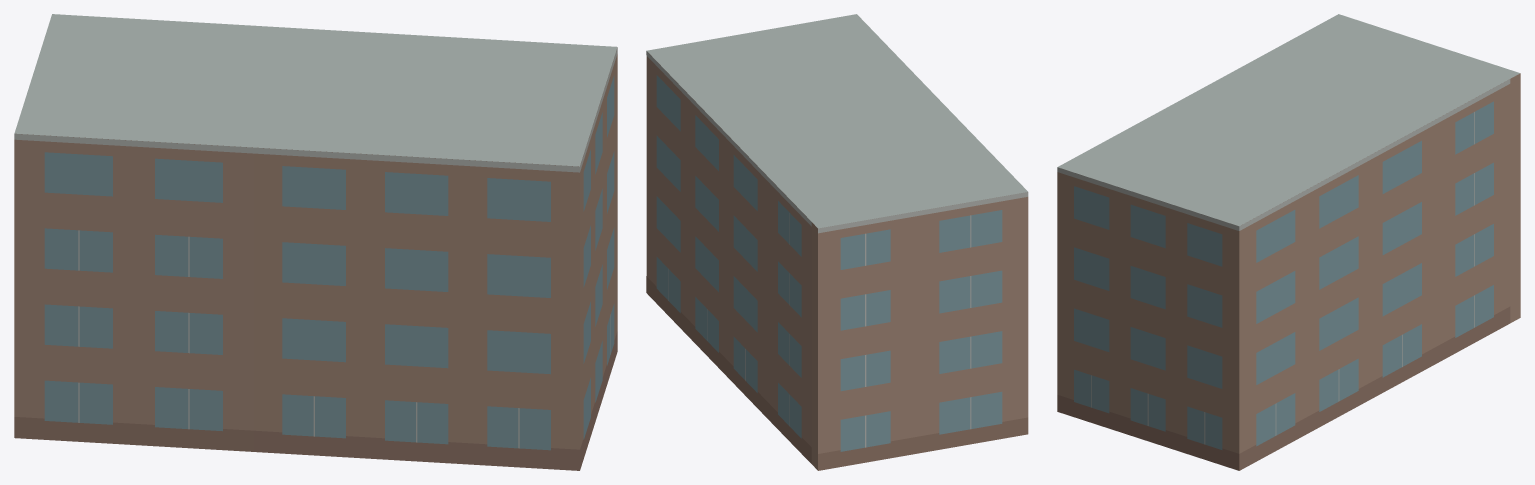
The model's file is survey-upis-32808032.glb.
3 views of the same model, side by side, from view 1: azimuth 30°, elevation 25°; view 2: azimuth 150°, elevation 25°; view 3: azimuth 270°, elevation 25° (orthographic). The views are drawn at different scales.
Visible parts, largest first — view 1: survey-upis-32808032.tmp; view 2: survey-upis-32808032.tmp; view 3: survey-upis-32808032.tmp.
Part boxes in pixels (bbox=[...]): survey-upis-32808032.tmp: bbox=[14, 14, 617, 470]; survey-upis-32808032.tmp: bbox=[646, 14, 1028, 470]; survey-upis-32808032.tmp: bbox=[1057, 14, 1520, 470].
Bounding box in the file's own units: 22.91 × 12.3 × 21.12.
